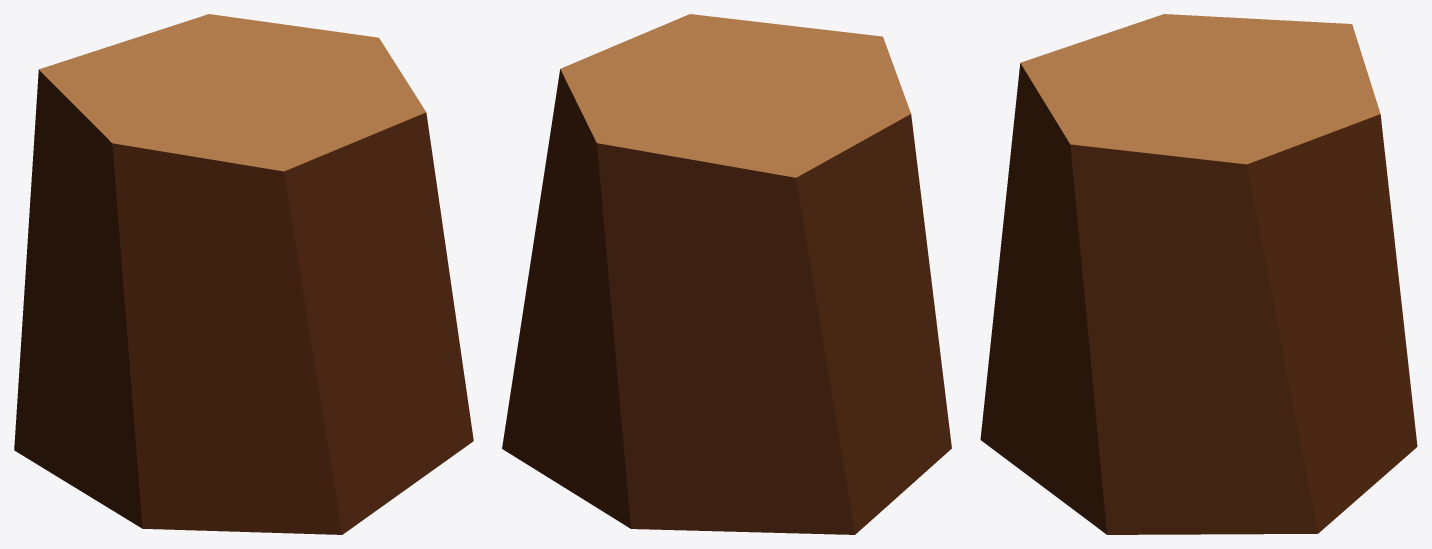
Rendered from T_TreeStump1.fbx.
3 views of the same model, side by side, from view 1: azimuth 30°, elevation 25°; view 2: azimuth 150°, elevation 25°; view 3: azimuth 270°, elevation 25° (orthographic).
Visible parts, largest first — view 1: Cylinder; view 2: Cylinder; view 3: Cylinder.
Part boxes in pixels (left/top/right/bottom): Cylinder: left=14, top=14, right=473, bottom=534; Cylinder: left=502, top=14, right=951, bottom=534; Cylinder: left=980, top=14, right=1417, bottom=534.
Size of the model in its own units: 1.34 by 1.3 by 1.44.
